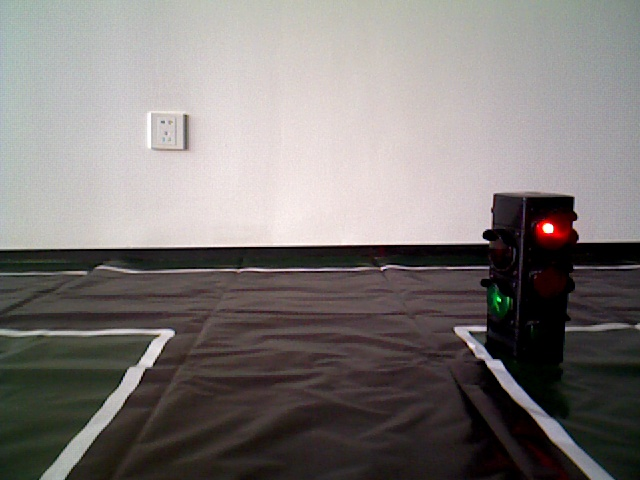red: (488, 193, 573, 359)
